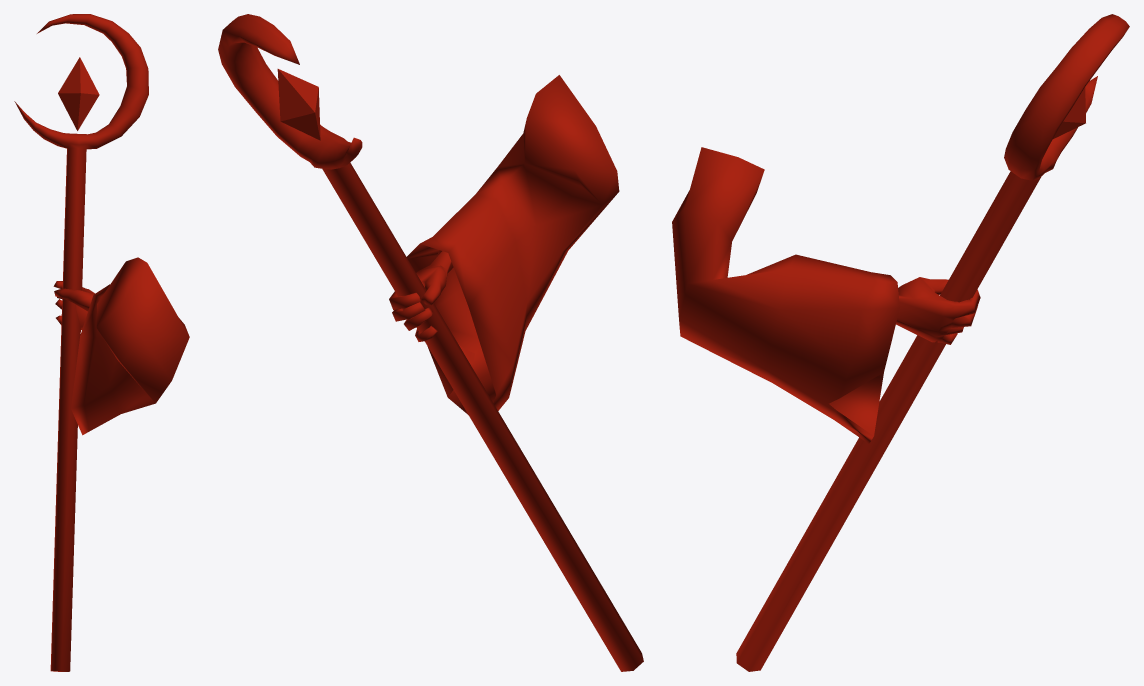
Rendered from arm_000038.obj.
3 views of the same model, side by side, from view 1: azimuth 30°, elevation 25°; view 2: azimuth 150°, elevation 25°; view 3: azimuth 270°, elevation 25° (orthographic). The views are drawn at different scales.
Parts seen in each view (by area): view 1: LowPoly_Warlock.000_Plane.005; view 2: LowPoly_Warlock.000_Plane.005; view 3: LowPoly_Warlock.000_Plane.005.
Part boxes in pixels (x1=…): LowPoly_Warlock.000_Plane.005: x1=14, y1=14, x2=189, y2=671; LowPoly_Warlock.000_Plane.005: x1=218, y1=14, x2=643, y2=671; LowPoly_Warlock.000_Plane.005: x1=672, y1=14, x2=1129, y2=671.
Size of the model in its own units: 0.6724 by 1.7 by 0.9492.
